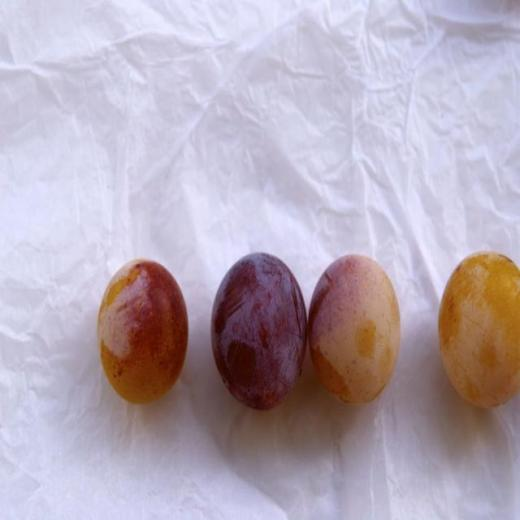Orange: (210, 249, 306, 410), (307, 253, 400, 408), (96, 260, 189, 405), (437, 253, 520, 408)
